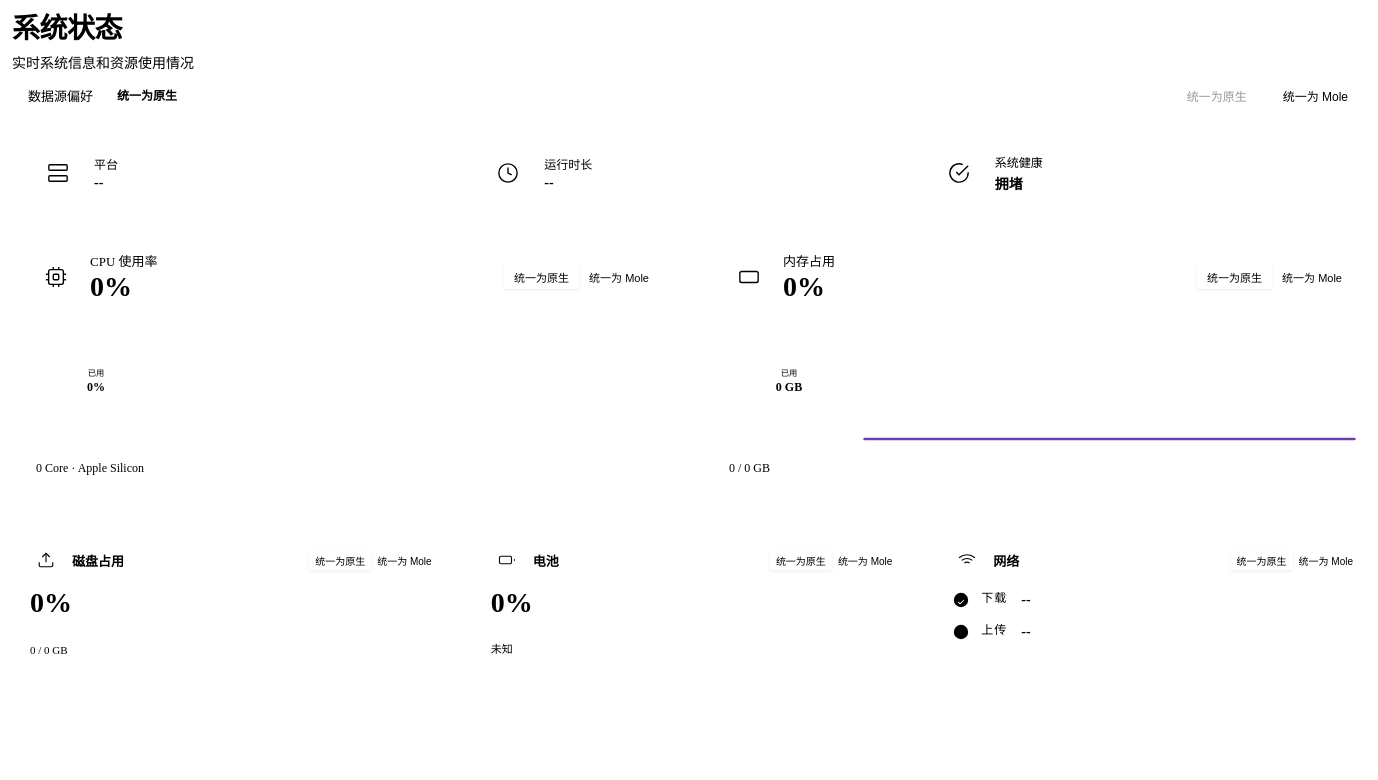
StatusView 组件 › 深层交互测试 › applyStatusData › 双源 + disk=mole 时 disk 取 data.mole
Step 1. Click the button with class "segmented-btn" in the row of "磁盘占用" → (404, 560), box [371,551,438,570]
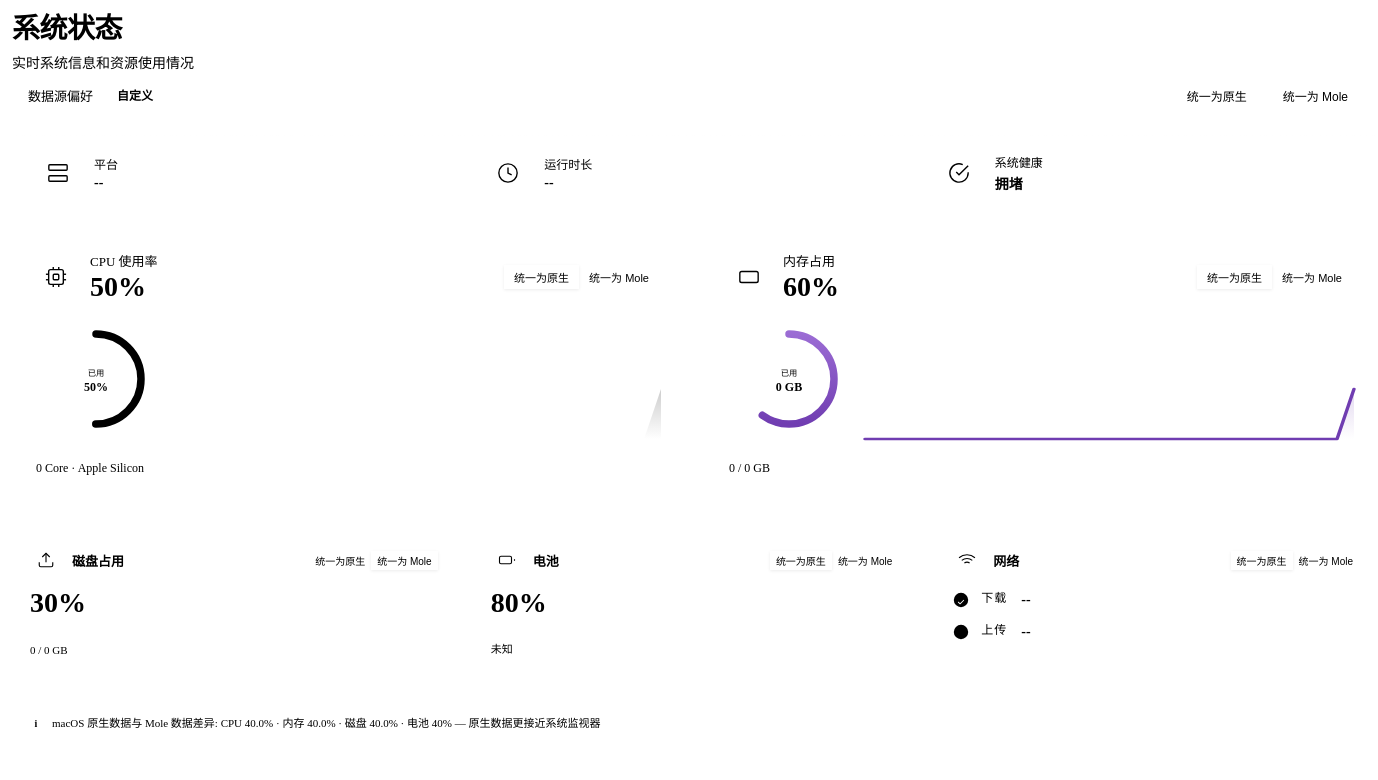
Expected: the text with class "mini-value" reads "30%", [30,587,86,618]
